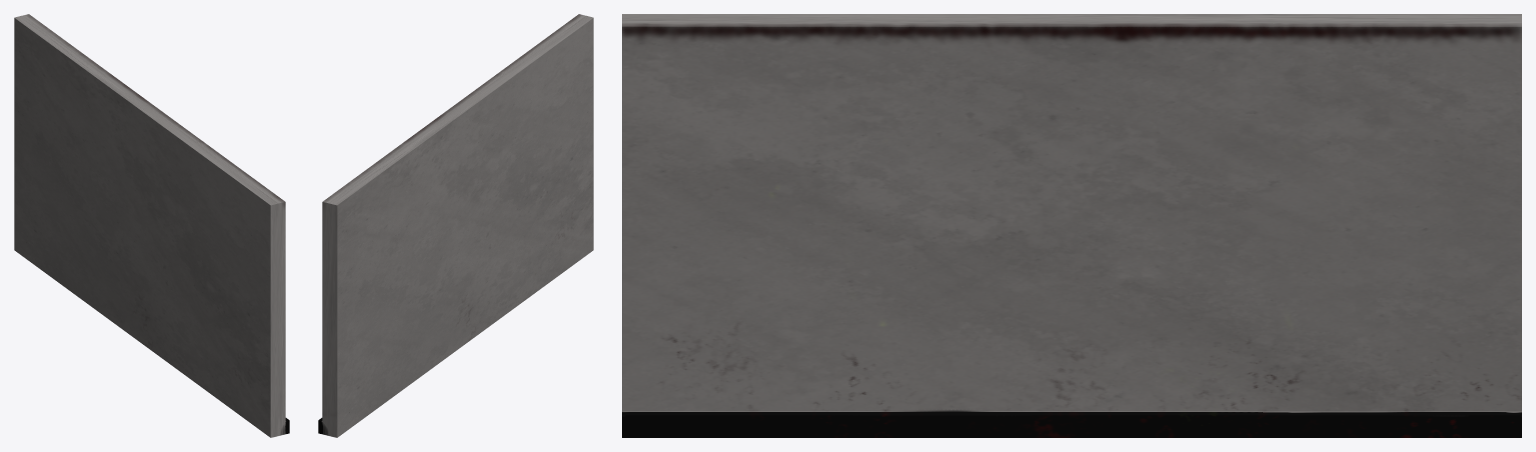
Rendered from mur_test 2.fbx.
3 views of the same model, side by side, from view 1: azimuth 30°, elevation 25°; view 2: azimuth 150°, elevation 25°; view 3: azimuth 270°, elevation 25° (orthographic). The views are drawn at different scales.
Visible parts, largest first — view 1: Cube; view 2: Cube; view 3: Cube.
Boxes of the visible parts, bbox=[...] form: Cube: bbox=[14, 14, 289, 437]; Cube: bbox=[318, 14, 593, 437]; Cube: bbox=[622, 14, 1521, 437].
Bounding box in the file's own units: 25.73 × 300 × 600.
